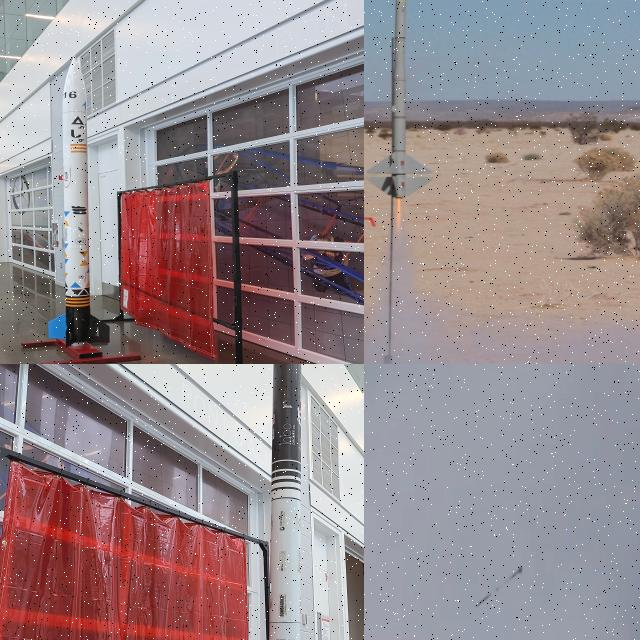Rocket: (48, 55, 110, 349), (364, 0, 435, 200), (269, 364, 302, 640), (477, 566, 523, 608)
